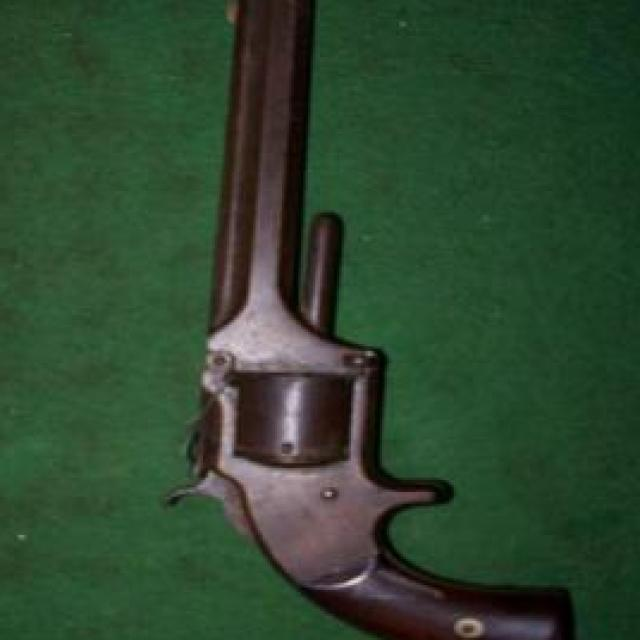pistol: (160, 0, 573, 640)
